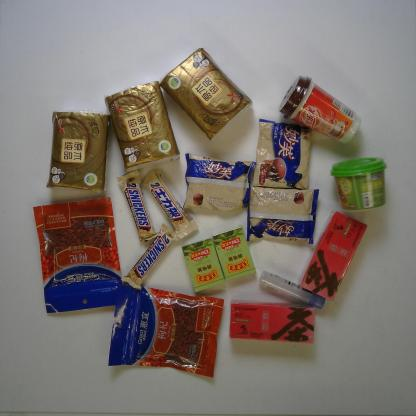Candy: (212, 226, 258, 281), (182, 237, 225, 294)
Chocolate: (141, 167, 199, 240), (121, 222, 180, 292), (116, 169, 159, 244)
Dessert: (251, 118, 313, 191), (181, 153, 256, 212), (245, 186, 319, 245)
Dried Fruit: (108, 282, 224, 378), (33, 197, 122, 314)
Instant Drink: (300, 212, 367, 302), (278, 75, 362, 144), (228, 298, 316, 344), (330, 156, 387, 213)
Stationery: (259, 268, 326, 312)
Tissue: (160, 47, 254, 142), (105, 79, 181, 174), (46, 110, 112, 193)
